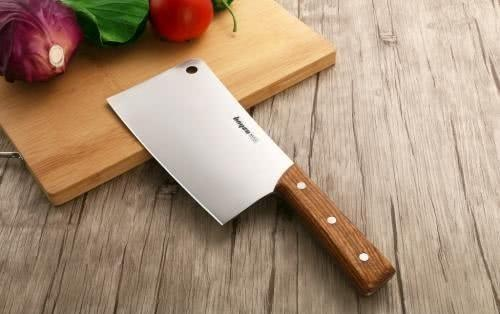knief: (97, 82, 420, 288)
